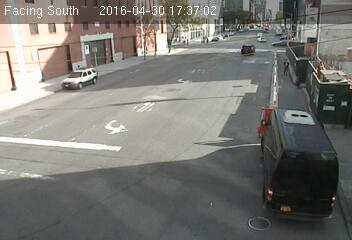neg: (125, 62, 145, 88), (237, 41, 248, 56)
pos: (276, 56, 294, 79)
